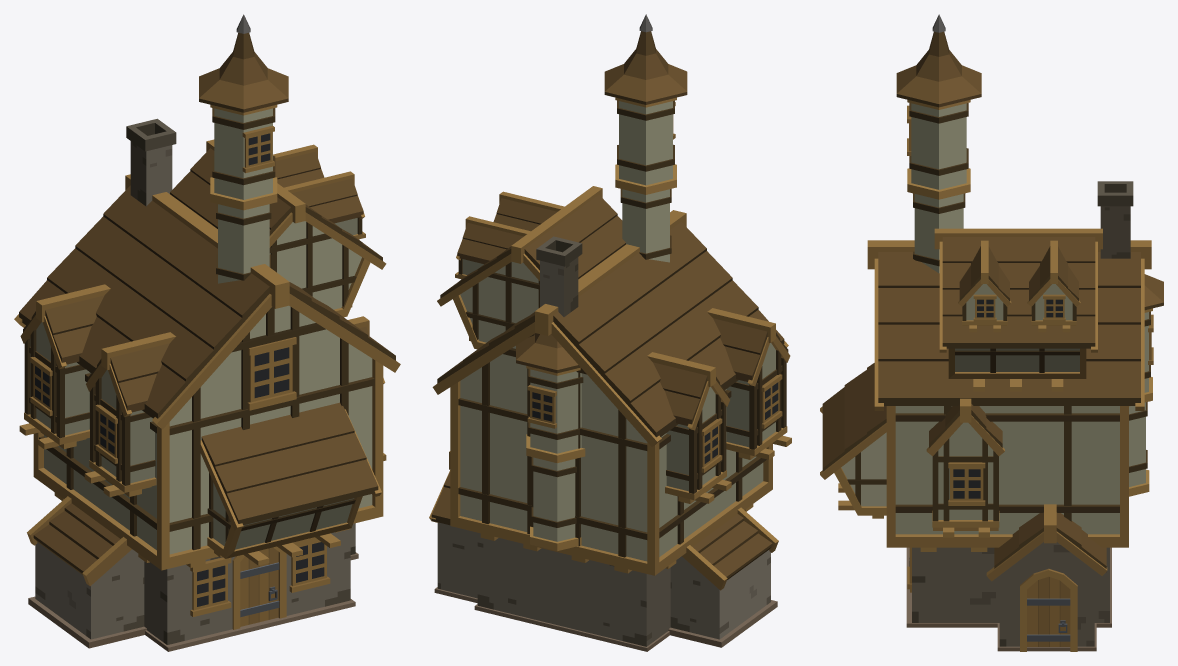
The model's file is SF_Bld_House_Large_01.fbx.
3 views of the same model, side by side, from view 1: azimuth 30°, elevation 25°; view 2: azimuth 150°, elevation 25°; view 3: azimuth 270°, elevation 25° (orthographic). The views are drawn at different scales.
Parts seen in each view (by area): view 1: SF_Bld_House_Large_01; view 2: SF_Bld_House_Large_01; view 3: SF_Bld_House_Large_01.
Part boxes in pixels (x1,y1,x2,y2): SF_Bld_House_Large_01: [14, 14, 400, 651]; SF_Bld_House_Large_01: [429, 14, 791, 651]; SF_Bld_House_Large_01: [820, 14, 1163, 651].
Bounding box in the file's own units: 15.18 × 28.89 × 15.79.
